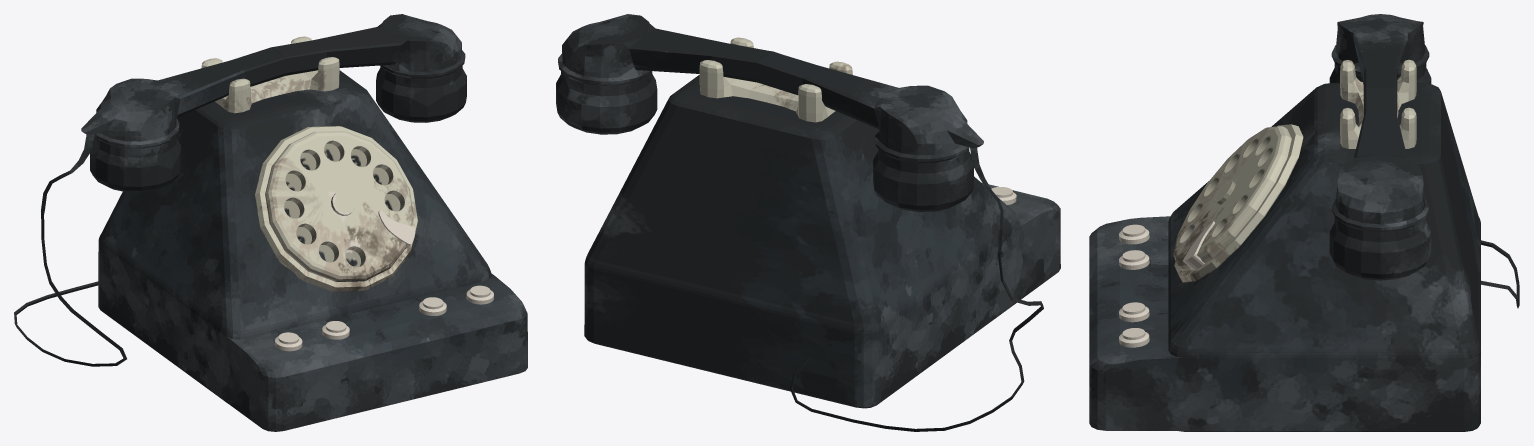
Rendered from telephone.fbx.
3 views of the same model, side by side, from view 1: azimuth 30°, elevation 25°; view 2: azimuth 150°, elevation 25°; view 3: azimuth 270°, elevation 25° (orthographic). The views are drawn at different scales.
Visible parts, largest first — view 1: merged ver.001; view 2: merged ver.001; view 3: merged ver.001.
Part boxes in pixels (x1=…): merged ver.001: x1=14, y1=14, x2=527, y2=431; merged ver.001: x1=556, y1=14, x2=1060, y2=431; merged ver.001: x1=1089, y1=14, x2=1519, y2=431.
Size of the model in its own units: 111 by 65.18 by 90.19.
